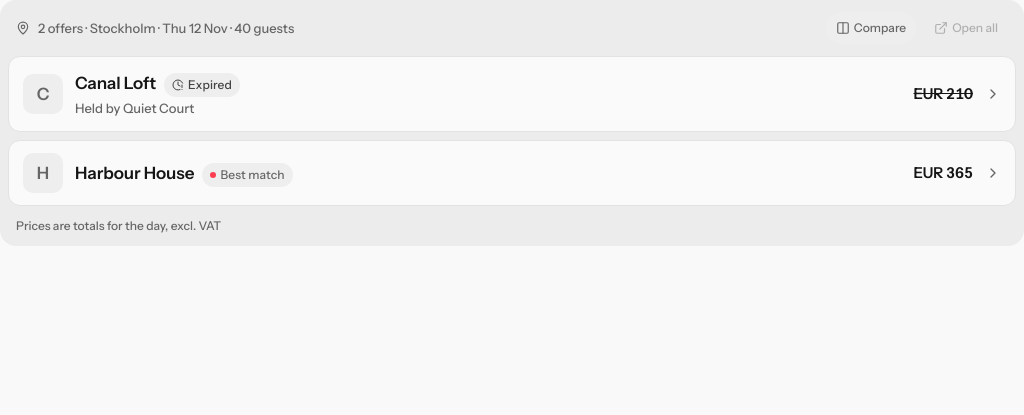
Test: compare toggle in the group › shows a neutral Expired chip and keeps Best match off that offer
Expected: the button "C Canal Loft Expired Held by Quiet Court EUR 210" is shown, [8, 56, 1016, 132]
Expected: the button "Canal Loft" does not show "Best match"
Click the button "Compare": (871, 28) [826, 12, 916, 44]
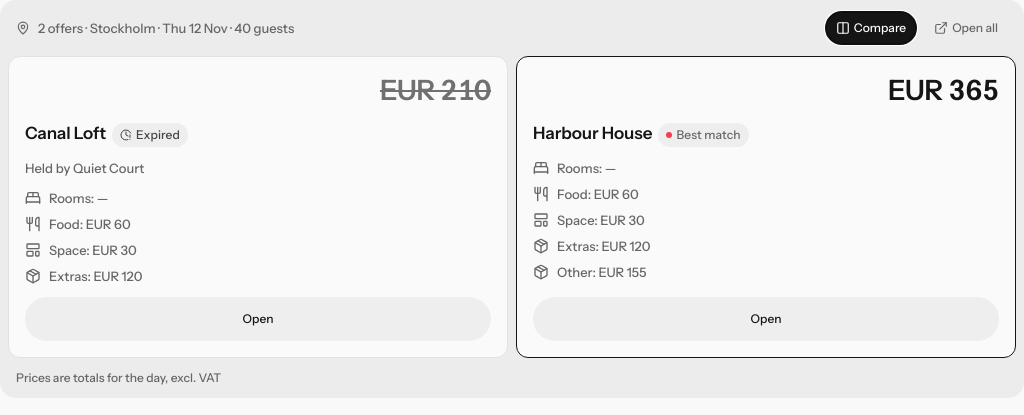
Expected: the text "EUR 210" is shown, [380, 73, 491, 107]
Now the element that starts with "EUR 365" shows "Harbour House", box [533, 123, 652, 143]
Now the element that starts with "EUR 210" shows "Extras: EUR 120", box [8, 56, 508, 358]
